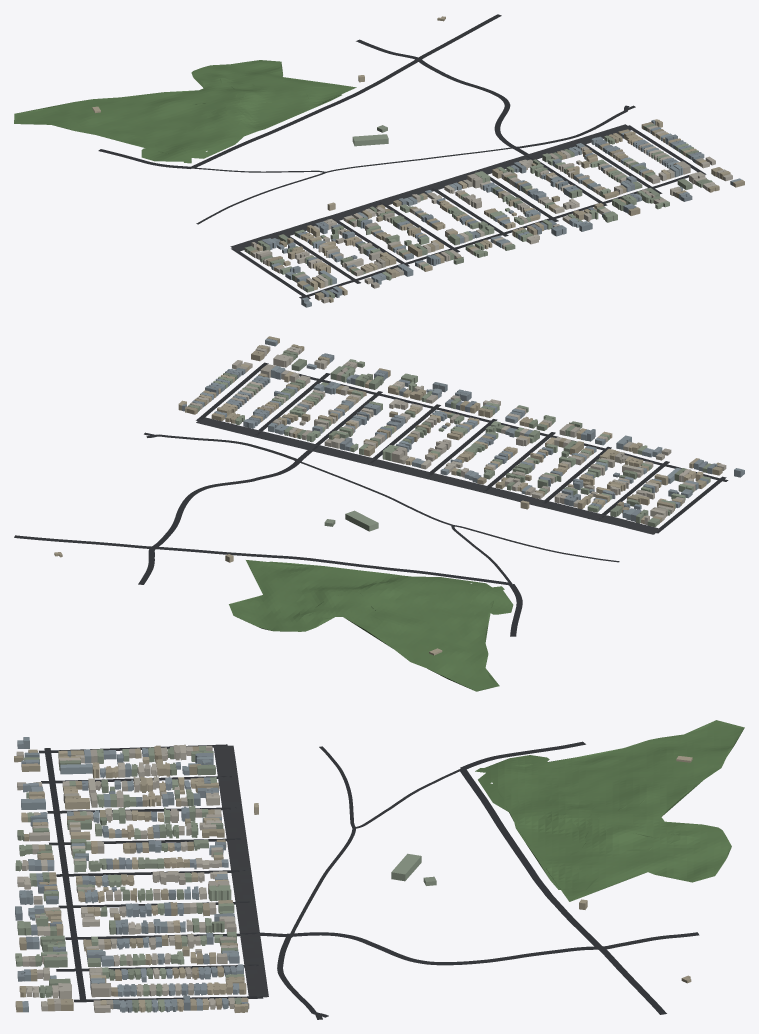
Rendered from tile_2_14.glb.
3 renders of one model, top to bottom at view 1: azimuth 30°, elevation 25°; view 2: azimuth 150°, elevation 25°; view 3: azimuth 270°, elevation 25°, orthographic. The views are drawn at different scales.
Visible parts, largest first — view 1: bld_2_14, grn_2_14, road_2_14; view 2: bld_2_14, grn_2_14, road_2_14; view 3: bld_2_14, grn_2_14, road_2_14.
Part boxes in pixels (left/top/right/bottom): bld_2_14: left=92, top=16, right=744, bottom=307; grn_2_14: left=14, top=60, right=356, bottom=163; road_2_14: left=98, top=14, right=706, bottom=298; bld_2_14: left=54, top=336, right=744, bottom=655; grn_2_14: left=229, top=560, right=513, bottom=691; road_2_14: left=14, top=362, right=728, bottom=636; bld_2_14: left=14, top=737, right=692, bottom=1012; grn_2_14: left=475, top=720, right=744, bottom=901; road_2_14: left=39, top=741, right=699, bottom=1019.
Bounding box in the file's own units: 876 × 37.41 × 865.
